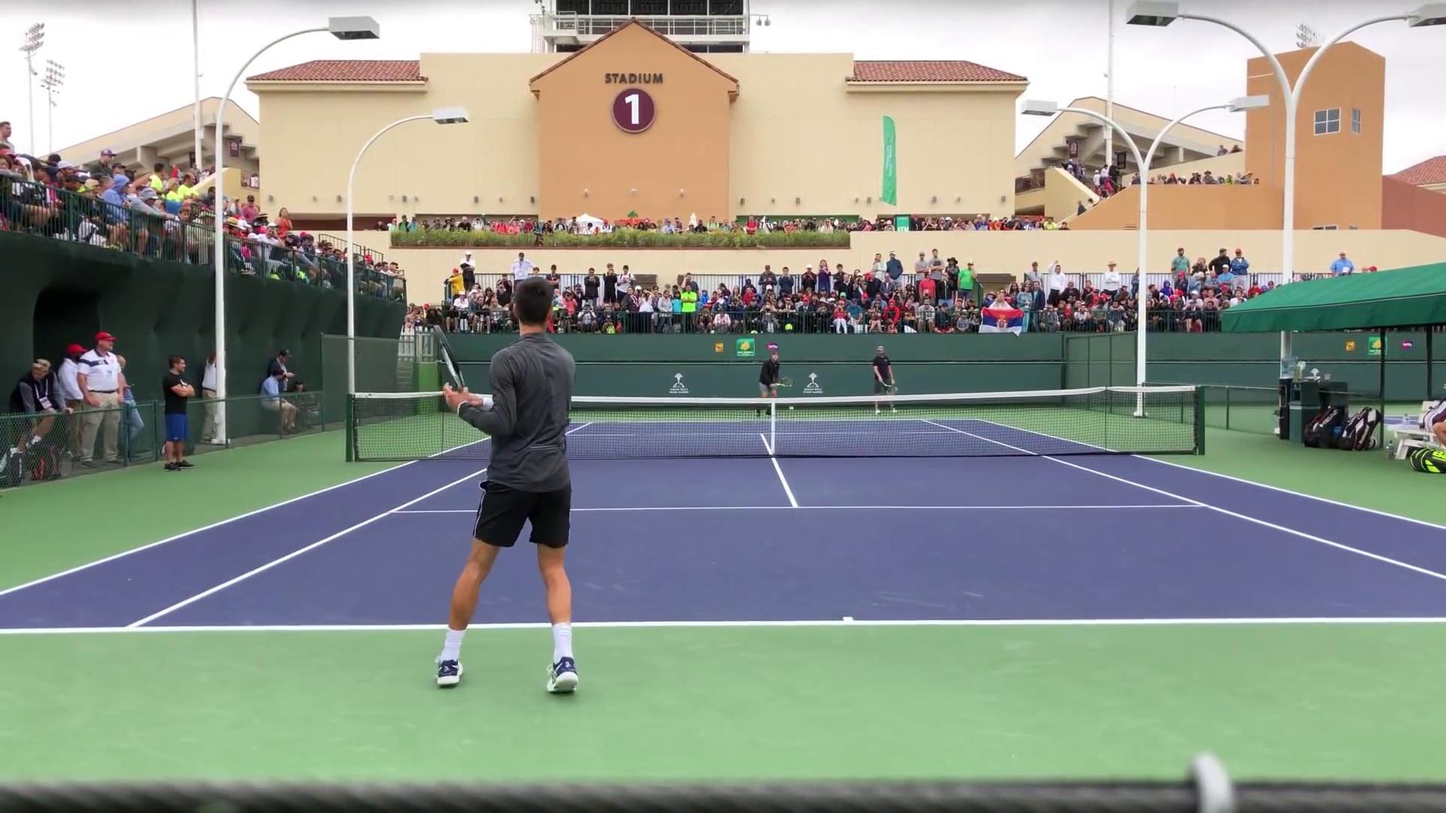ball: (788, 403, 793, 415)
